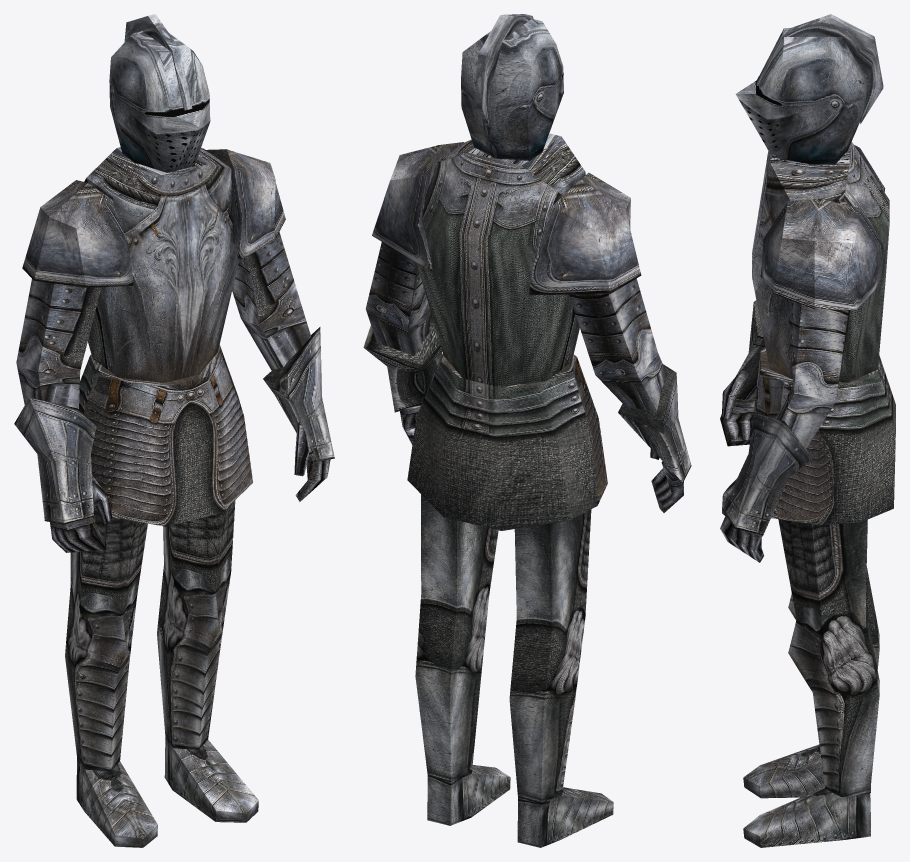
File: mm9_deco_suitofarmor01plain.glb
The picture shows the model from 3 angles, left to right: view 1: azimuth 30°, elevation 25°; view 2: azimuth 150°, elevation 25°; view 3: azimuth 270°, elevation 25°; orthographic projection. The views are drawn at different scales.
Visible parts, largest first — view 1: Suitofarmor01plain; view 2: Suitofarmor01plain; view 3: Suitofarmor01plain.
Part boxes in pixels (x1=…): Suitofarmor01plain: x1=14, y1=14, x2=334, y2=847; Suitofarmor01plain: x1=363, y1=14, x2=691, y2=847; Suitofarmor01plain: x1=720, y1=14, x2=895, y2=847.
Size of the model in its own units: 0.9506 by 2.44 by 0.4892.
Materials: 2 (2 with a texture image).
